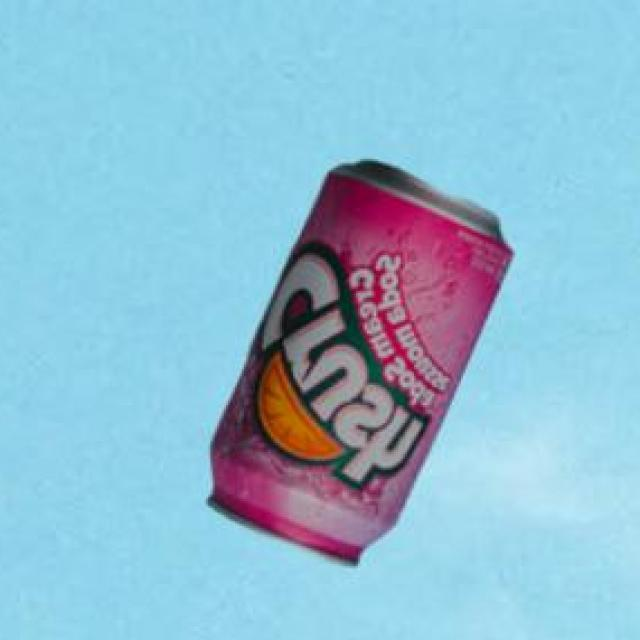logam: (211, 158, 516, 563)
